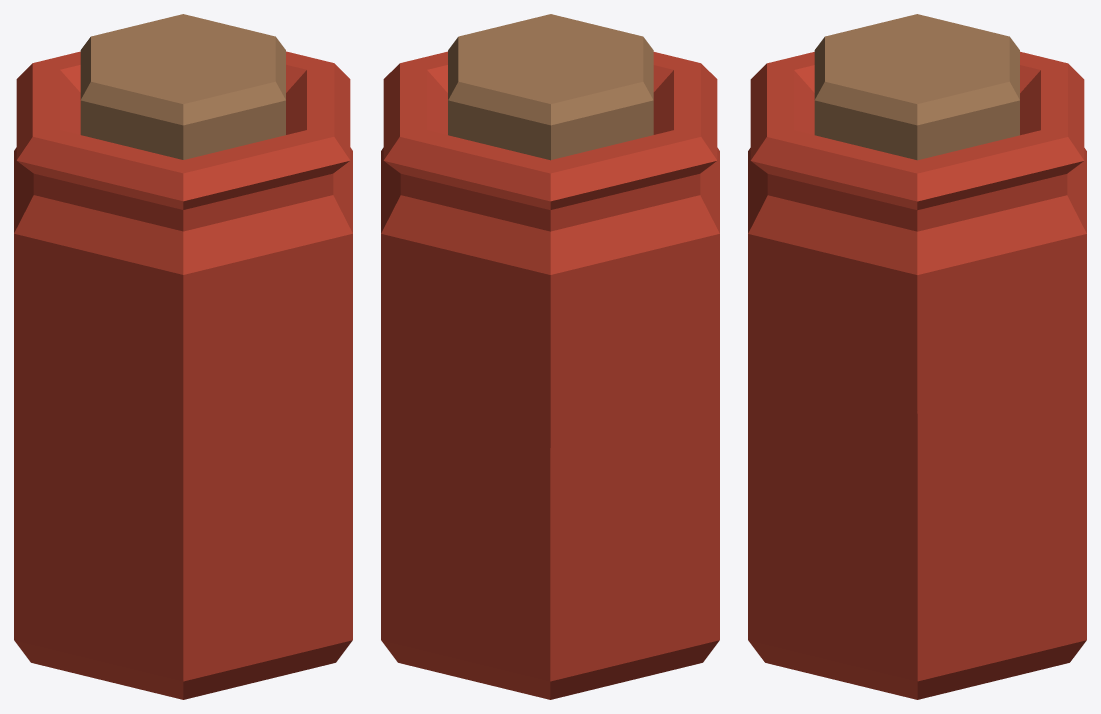
File: potion_2.glb
3 renders of one model, left to right at view 1: azimuth 30°, elevation 25°; view 2: azimuth 150°, elevation 25°; view 3: azimuth 270°, elevation 25°, orthographic.
Parts seen in each view (by area): view 1: potion_2; view 2: potion_2; view 3: potion_2.
Boxes of the visible parts, <box> form: potion_2: <box>14,14,352,699</box>; potion_2: <box>381,14,719,699</box>; potion_2: <box>748,14,1086,699</box>.
Bounding box in the file's own units: 0.2302 × 0.3677 × 0.1994.
Materials: 2 (2 with a texture image).
